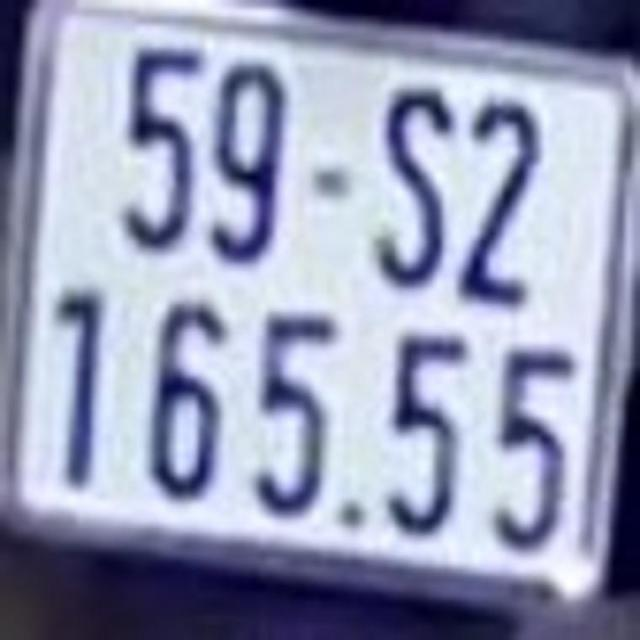1: (50, 285, 104, 491)
2: (461, 94, 539, 309)
5: (493, 341, 576, 553), (387, 327, 469, 538), (122, 41, 201, 252), (256, 308, 333, 516)
6: (150, 295, 226, 502)
9: (210, 56, 283, 264)
S: (374, 81, 454, 288)
